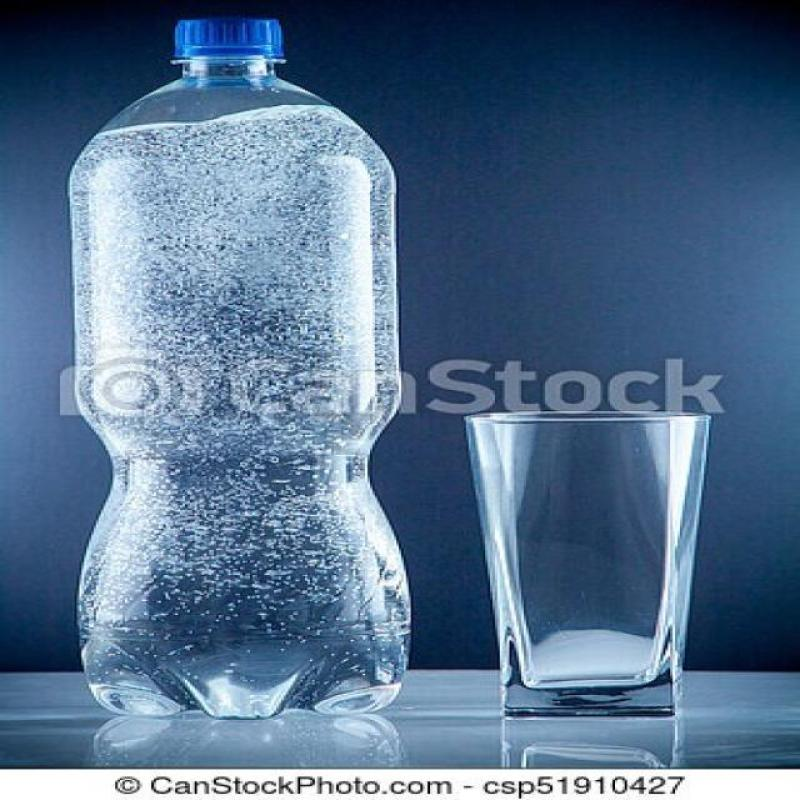botella: (65, 21, 411, 720)
